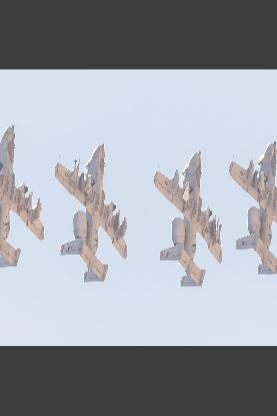A10: (52, 145, 125, 282), (152, 152, 221, 288), (227, 142, 276, 276), (0, 124, 43, 269)
